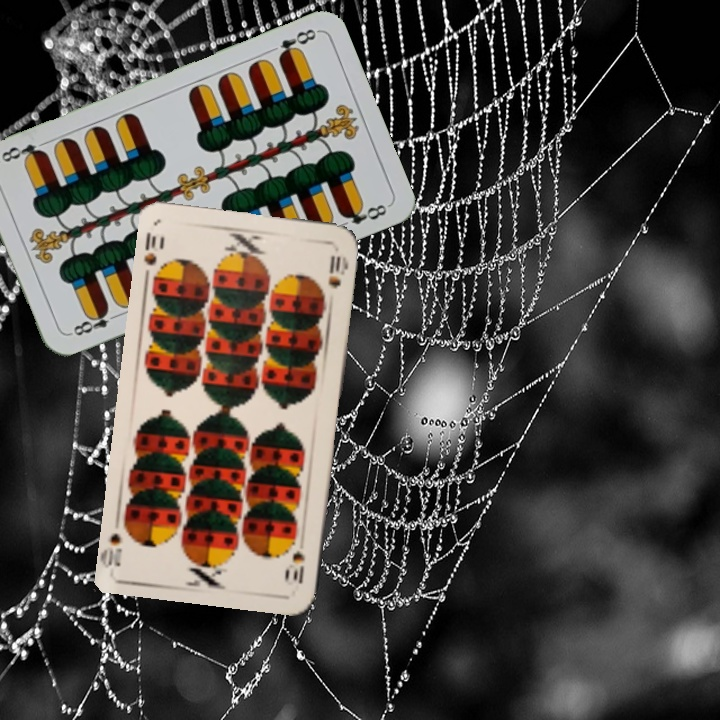E8: (65, 304, 122, 339), (274, 24, 319, 62)
S10: (288, 546, 308, 587), (140, 228, 159, 268)
